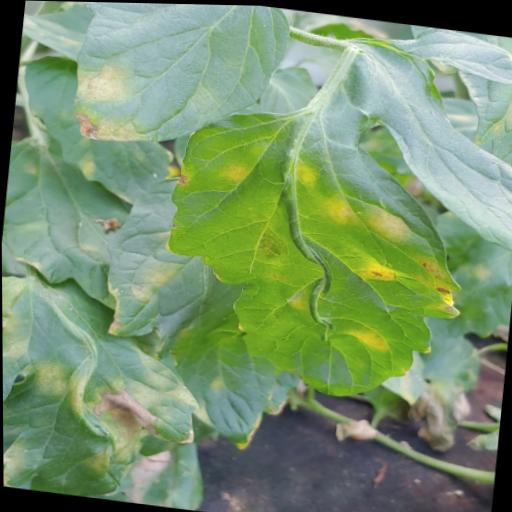Leaf Mold: (148, 3, 512, 416), (90, 165, 305, 453), (2, 267, 227, 512), (66, 1, 296, 162), (14, 51, 183, 207), (1, 136, 140, 312)
